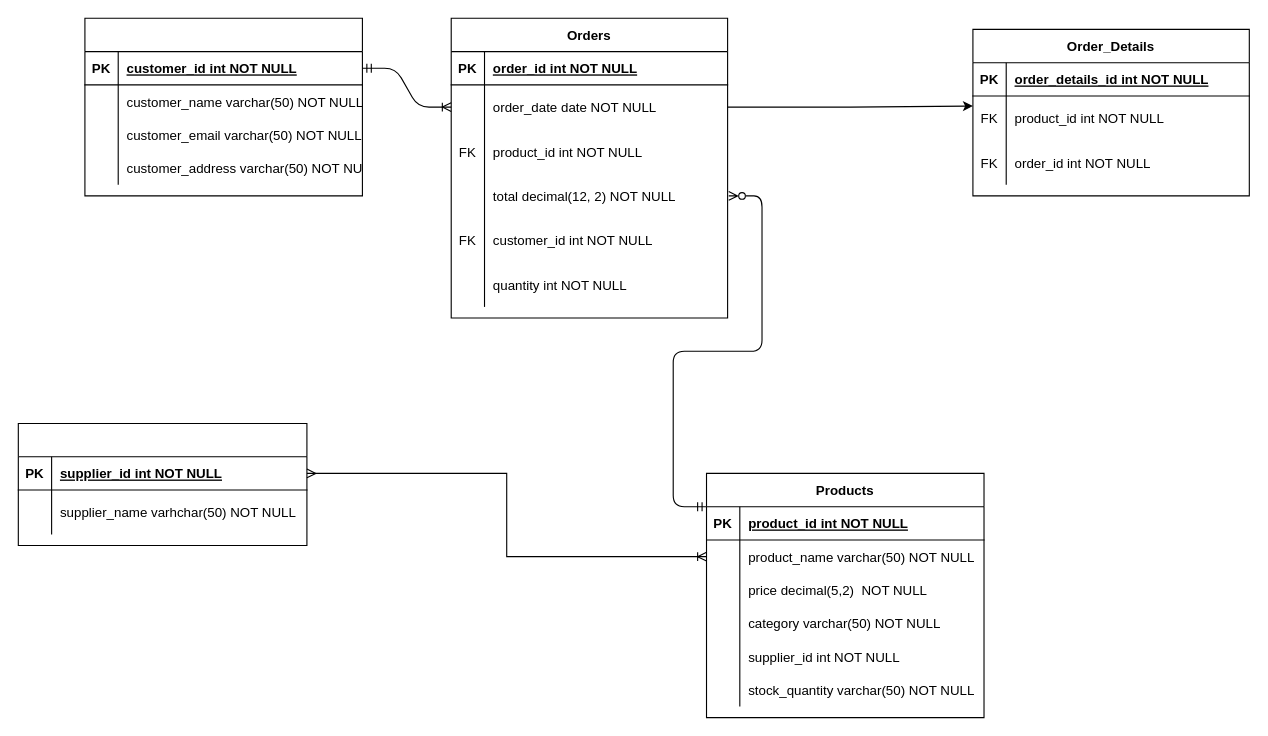
This 1268x736 diagram has some shape labels left out. Each missing label, with the box of its shape:
Customers: (84, 17, 362, 196)
Suppliers: (17, 422, 307, 546)
